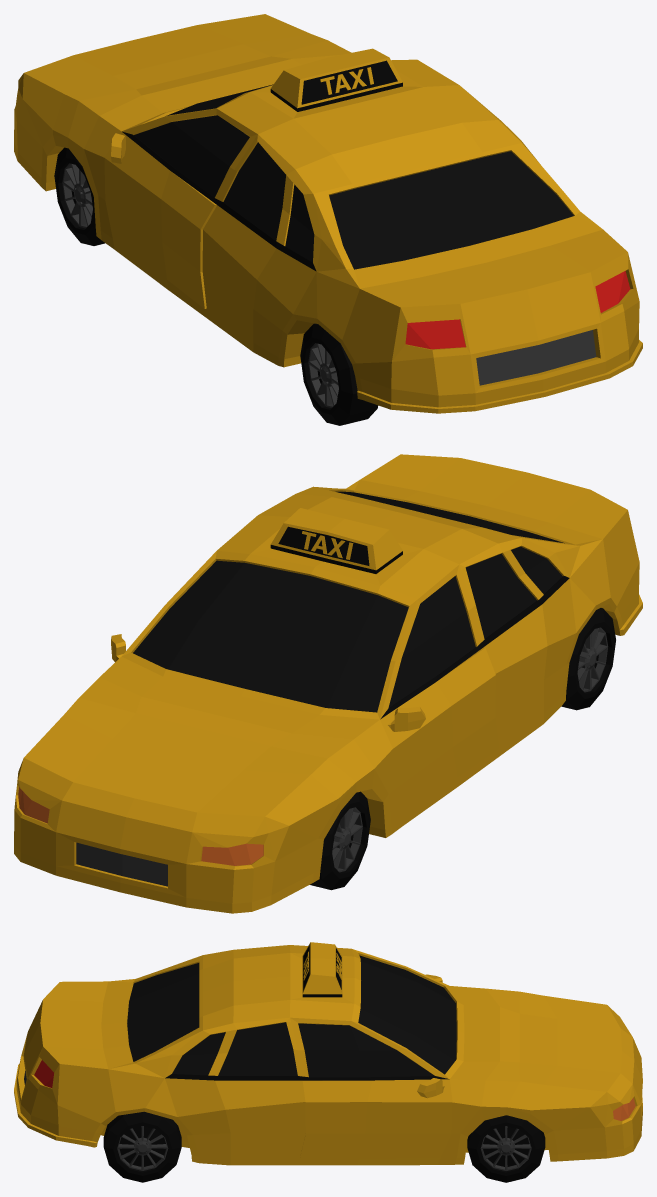
File: Taxi.glb
The picture shows the model from 3 angles, top to bottom: view 1: azimuth 30°, elevation 25°; view 2: azimuth 150°, elevation 25°; view 3: azimuth 270°, elevation 25°; orthographic projection. The views are drawn at different scales.
Visible parts, largest first — view 1: Taxi, Taxi_BackWheels, Taxi_FrontLeftWheel; view 2: Taxi, Taxi_BackWheels, Taxi_FrontLeftWheel; view 3: Taxi, Taxi_BackWheels, Taxi_FrontRightWheel.
Part boxes in pixels (box(x1,y1,x2,y2)): Taxi: box(14, 14, 642, 413); Taxi_BackWheels: box(300, 323, 378, 425); Taxi_FrontLeftWheel: box(54, 147, 104, 245); Taxi: box(14, 454, 642, 913); Taxi_BackWheels: box(561, 608, 615, 710); Taxi_FrontLeftWheel: box(310, 791, 370, 890); Taxi: box(14, 942, 642, 1165); Taxi_BackWheels: box(103, 1111, 181, 1182); Taxi_FrontRightWheel: box(467, 1115, 545, 1182).
Size of the model in its own units: 1.88 by 1.36 by 4.39.
